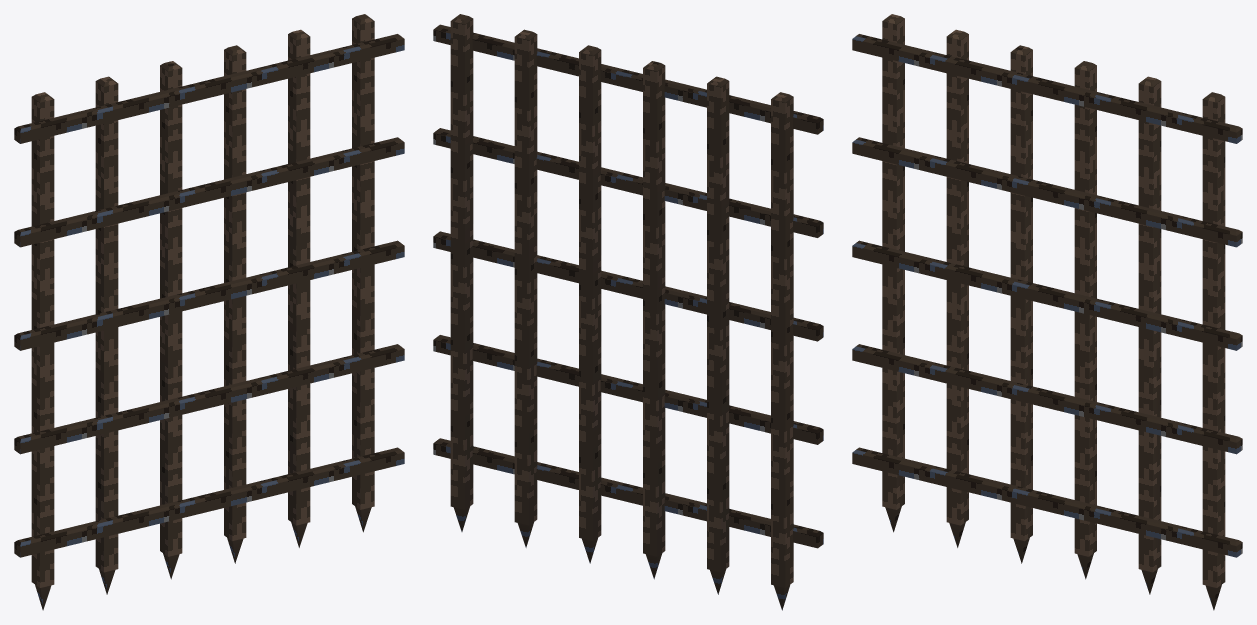
Rendered from cst.portcullis.glb.
3 views of the same model, side by side, from view 1: azimuth 30°, elevation 25°; view 2: azimuth 150°, elevation 25°; view 3: azimuth 330°, elevation 25° (orthographic).
Parts seen in each view (by area): view 1: kit_grid, kit_iron; view 2: kit_grid, kit_iron; view 3: kit_grid, kit_iron.
Boxes of the visible parts, box(x1,y1,x2,y2) form: kit_grid: box(31, 14, 374, 587); kit_iron: box(14, 34, 404, 610); kit_grid: box(450, 14, 793, 587); kit_iron: box(433, 24, 823, 610); kit_grid: box(882, 14, 1225, 587); kit_iron: box(852, 34, 1242, 610).
Bounding box in the file's own units: 3.5 × 4.49 × 0.21.
Materials: 2 (2 with a texture image).
